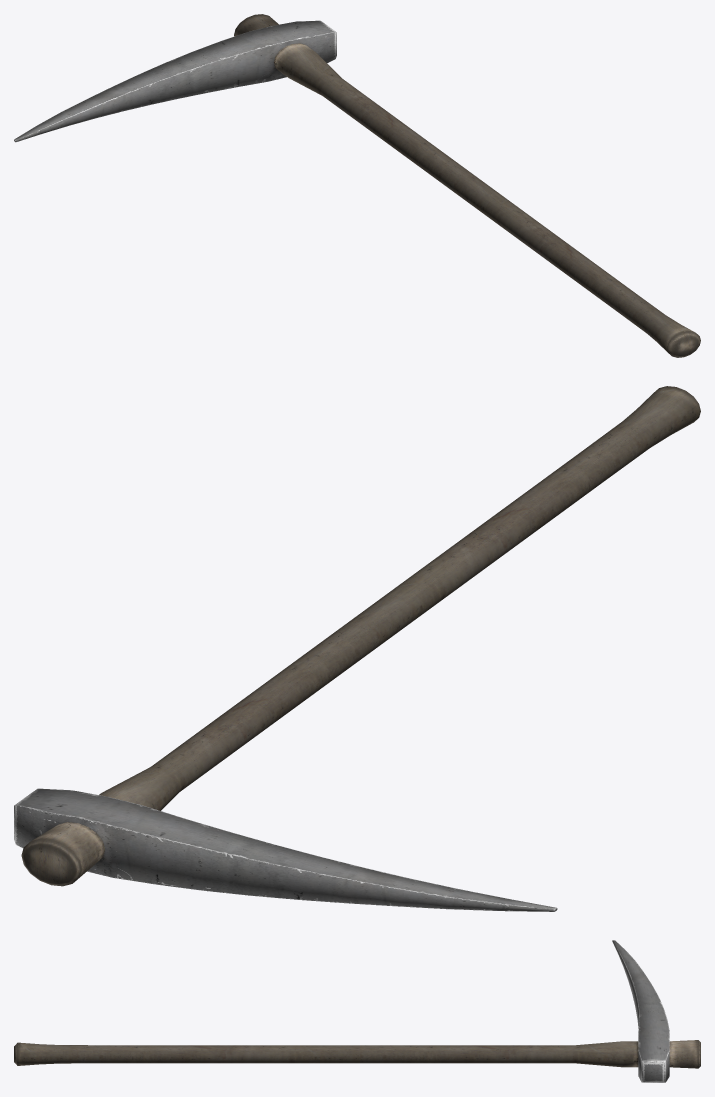
File: pickaxe.glb
3 renders of one model, top to bottom at view 1: azimuth 30°, elevation 25°; view 2: azimuth 150°, elevation 25°; view 3: azimuth 270°, elevation 25°, orthographic. The views are drawn at different scales.
Visible parts, largest first — view 1: Cube; view 2: Cube; view 3: Cube.
Part boxes in pixels (x1=…): Cube: x1=14, y1=14, x2=700, y2=357; Cube: x1=14, y1=386, x2=700, y2=911; Cube: x1=14, y1=940, x2=700, y2=1082.
Size of the model in its own units: 20 by 2 by 44.03.
1 material, 1 textured.
